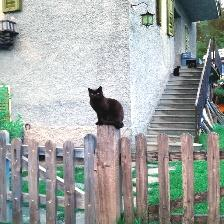kedo: (88, 86, 124, 129)
